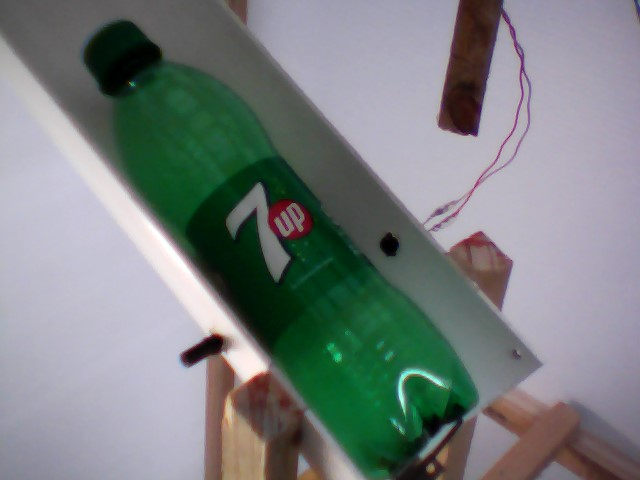plastico: (74, 12, 495, 478)
